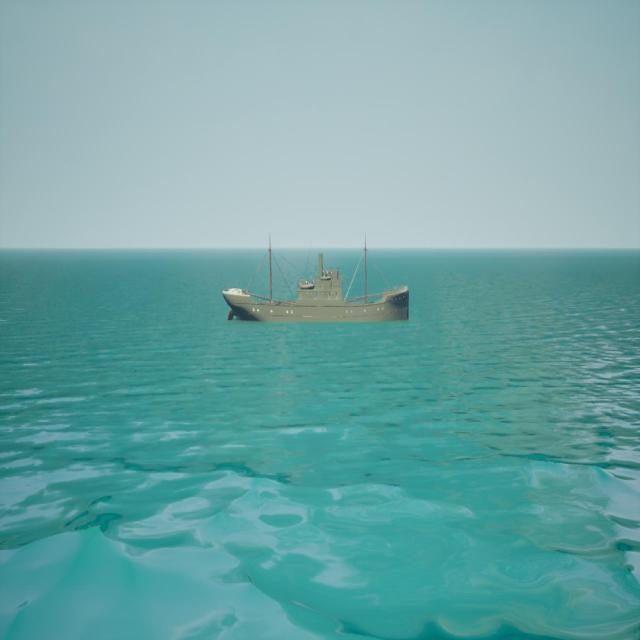fishing ship: (225, 238, 410, 324)
